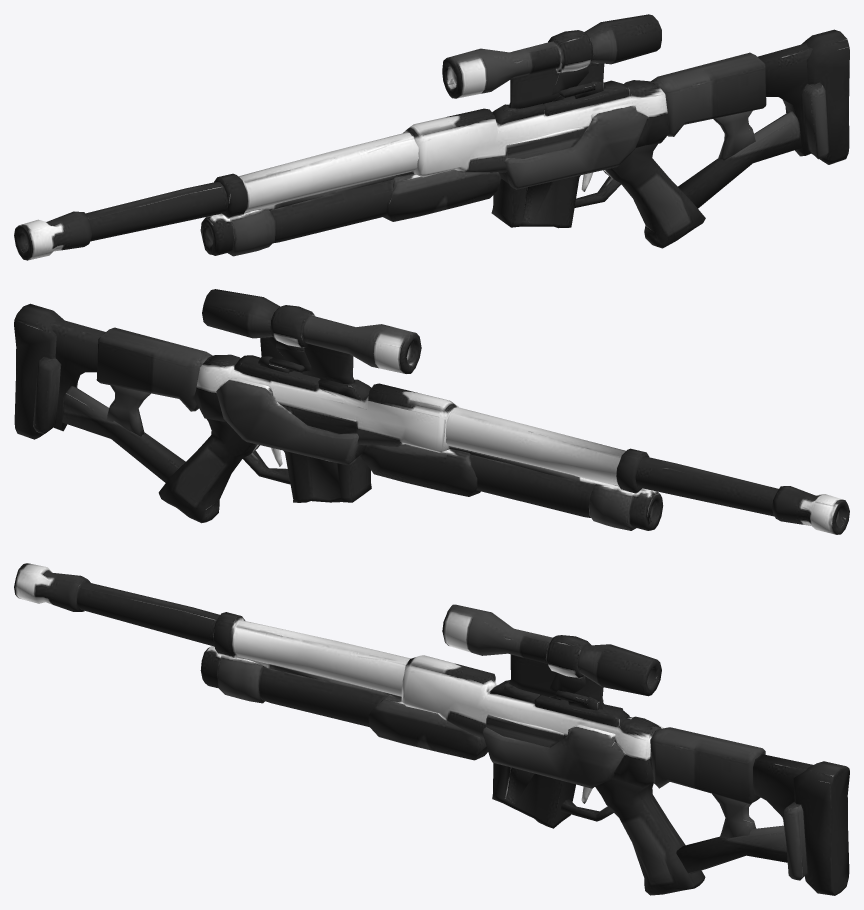
Rendered from kip_gun.glb.
3 renders of one model, top to bottom at view 1: azimuth 30°, elevation 25°; view 2: azimuth 150°, elevation 25°; view 3: azimuth 330°, elevation 25°, orthographic.
Bounding box in the file's own units: 1 × 0.2776 × 0.0673.
1 material, 1 textured.
